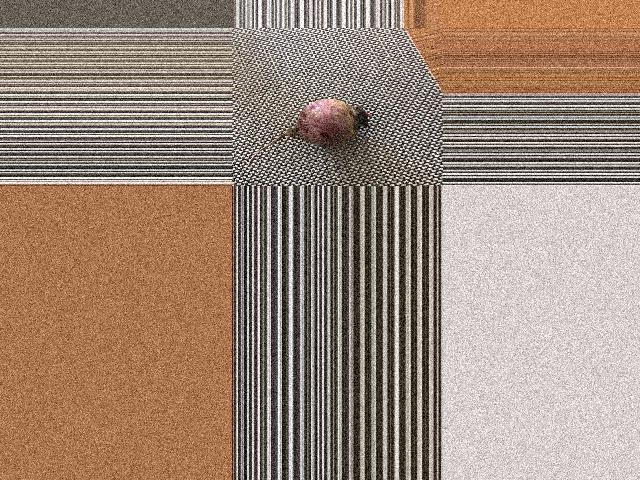beet: (247, 100, 372, 166)
